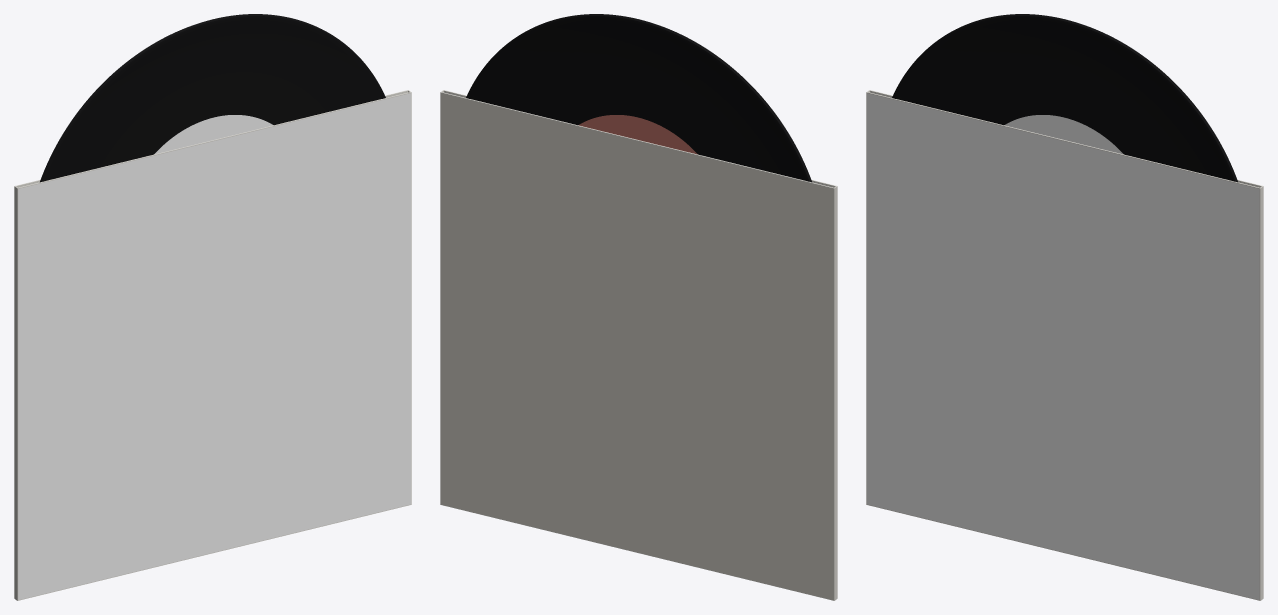
File: vinyl_single.glb
3 views of the same model, side by side, from view 1: azimuth 30°, elevation 25°; view 2: azimuth 150°, elevation 25°; view 3: azimuth 330°, elevation 25° (orthographic).
Parts seen in each view (by area): view 1: single_front, single_a, single_sleeve, single_label_a; view 2: single_back, single_b, single_sleeve, single_label_b; view 3: single_front, single_a, single_sleeve, single_label_a.
Boxes of the visible parts, x1,y1,x2,y2 form: single_front: [18, 93, 410, 599]; single_a: [40, 14, 385, 182]; single_sleeve: [14, 90, 411, 600]; single_label_a: [154, 115, 273, 154]; single_back: [441, 93, 833, 599]; single_b: [466, 14, 811, 182]; single_sleeve: [440, 90, 837, 600]; single_label_b: [578, 115, 697, 154]; single_front: [867, 93, 1259, 599]; single_a: [892, 14, 1237, 182]; single_sleeve: [866, 90, 1263, 600]; single_label_a: [1004, 115, 1123, 154].
Size of the model in its own units: 0.184 by 0.2375 by 0.00272.
7 materials, 2 textured.
